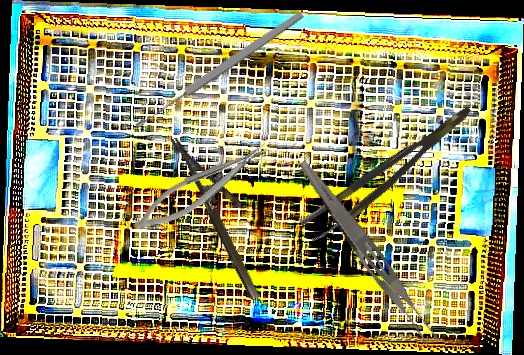Dressing Forceps: (290, 156, 445, 352)
Needle Holder: (170, 124, 282, 301), (127, 136, 277, 239)
Surgical Spoon: (132, 9, 306, 131)
Tissue Forceps: (298, 103, 483, 246)
